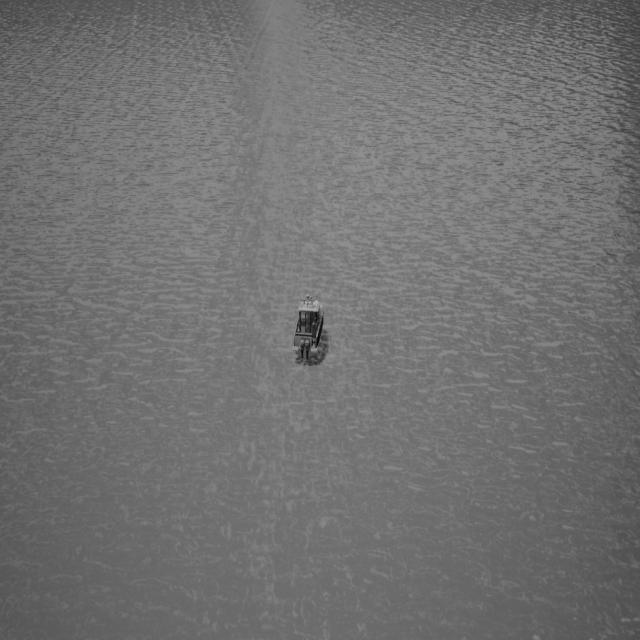ship: (290, 287, 328, 366)
